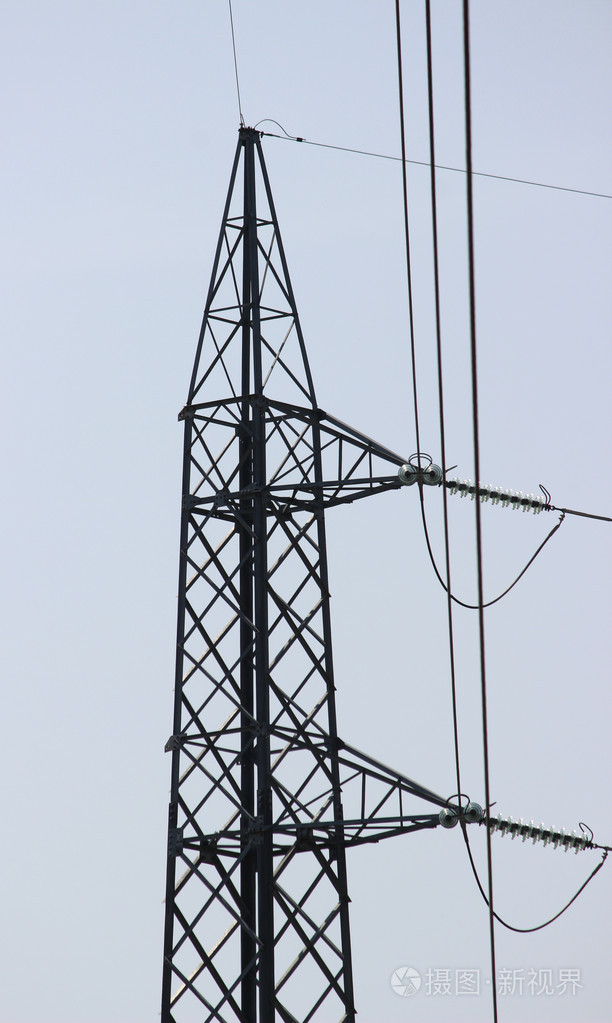insulator: (494, 813, 592, 856), (449, 475, 544, 516)
